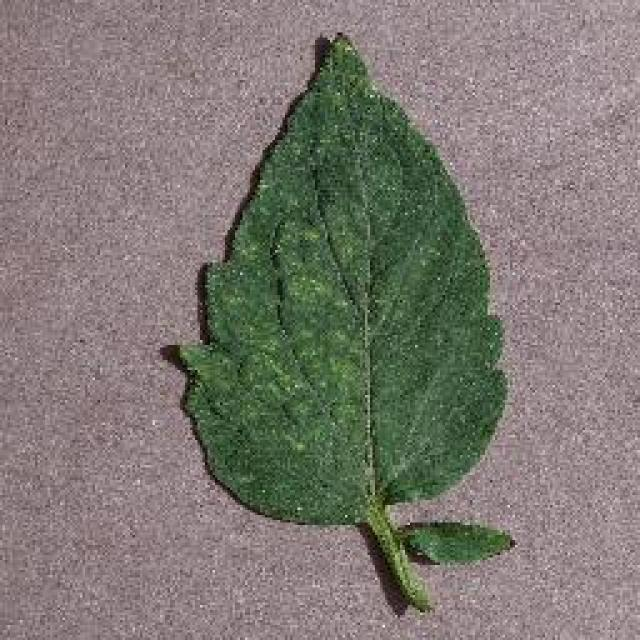Tomato mosaic virus leaf: (168, 28, 510, 522), (397, 518, 515, 562)
